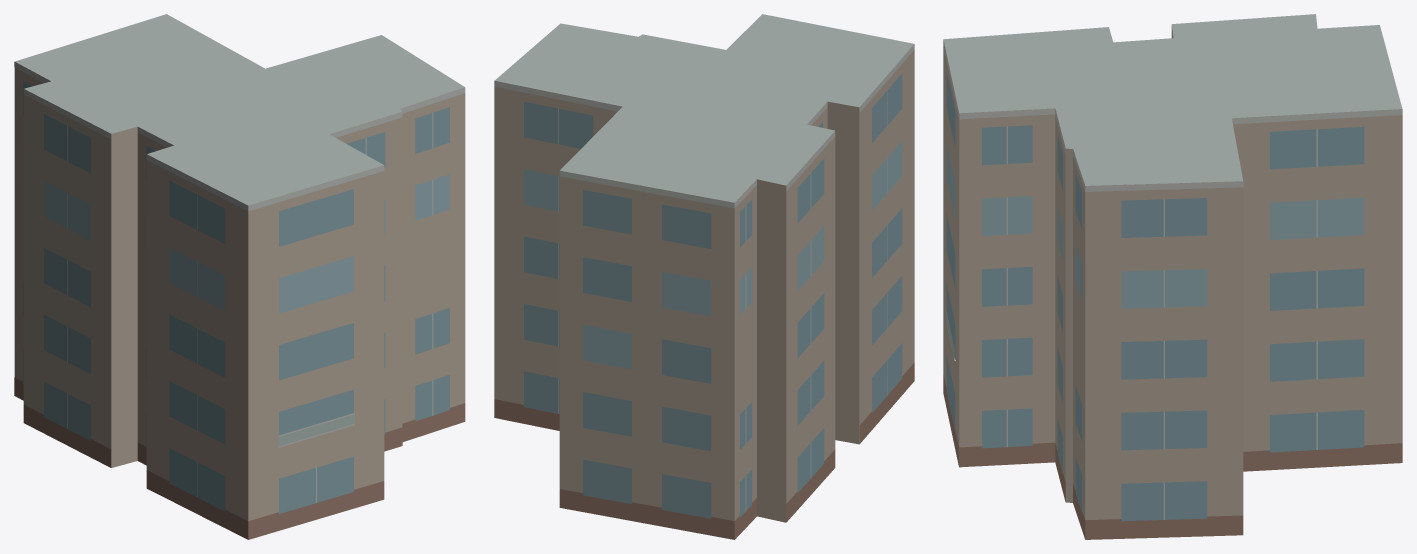
The model's file is survey-upis-32752042.glb.
3 views of the same model, side by side, from view 1: azimuth 30°, elevation 25°; view 2: azimuth 150°, elevation 25°; view 3: azimuth 270°, elevation 25° (orthographic). The views are drawn at different scales.
Visible parts, largest first — view 1: survey-upis-32752042.tmp; view 2: survey-upis-32752042.tmp; view 3: survey-upis-32752042.tmp.
Boxes of the visible parts, x1,y1,x2,y2 form: survey-upis-32752042.tmp: [14, 14, 465, 539]; survey-upis-32752042.tmp: [494, 14, 914, 539]; survey-upis-32752042.tmp: [943, 14, 1402, 539].
Size of the model in its own units: 14.91 by 14.3 by 16.82.
